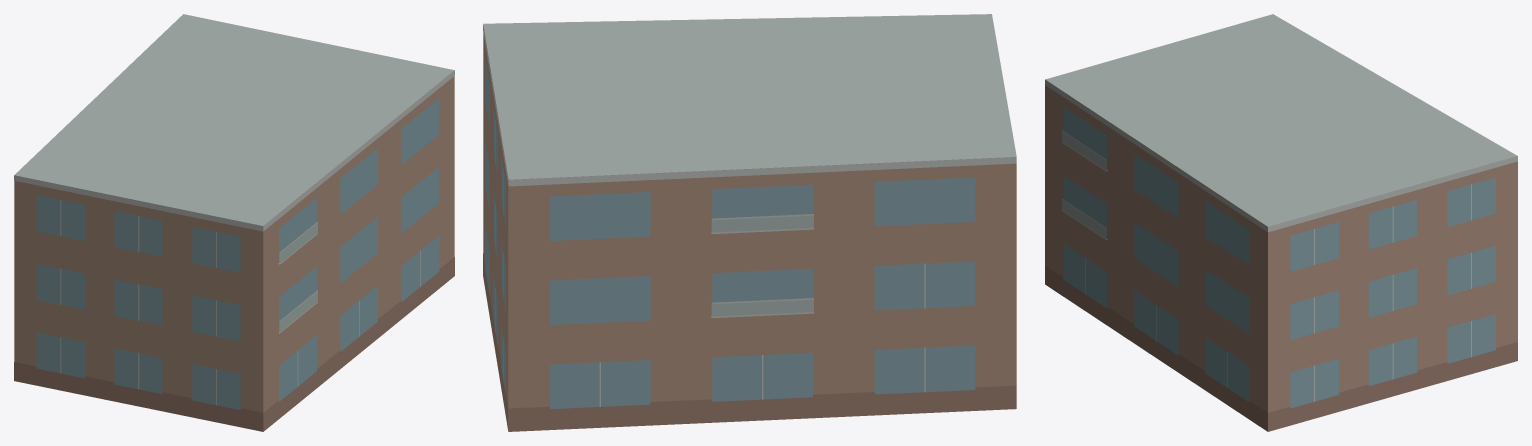
Rendered from survey-upis-32781199.glb.
The picture shows the model from 3 angles, left to right: view 1: azimuth 30°, elevation 25°; view 2: azimuth 150°, elevation 25°; view 3: azimuth 270°, elevation 25°; orthographic projection. The views are drawn at different scales.
Visible parts, largest first — view 1: survey-upis-32781199.tmp; view 2: survey-upis-32781199.tmp; view 3: survey-upis-32781199.tmp.
Boxes of the visible parts, <box> form: survey-upis-32781199.tmp: <box>14,14,454,431</box>; survey-upis-32781199.tmp: <box>483,14,1016,431</box>; survey-upis-32781199.tmp: <box>1045,14,1517,431</box>.
Bounding box in the file's own units: 20.39 × 9.15 × 19.13.
